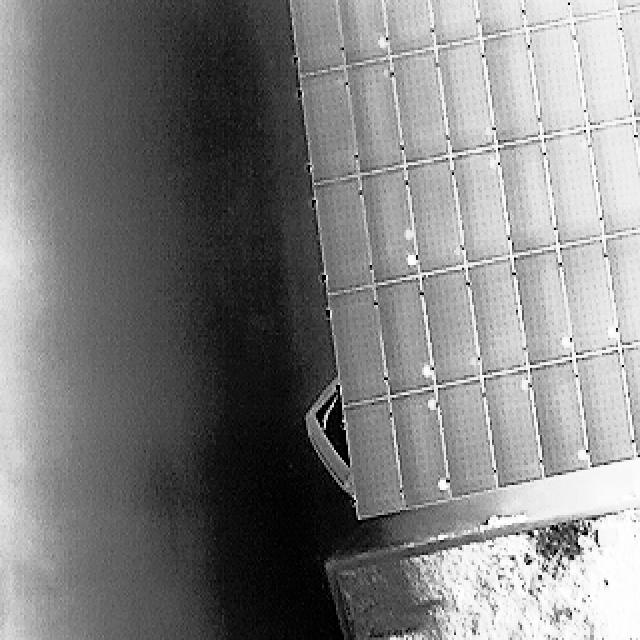Hotspots: (437, 476, 450, 494), (375, 35, 389, 50), (421, 364, 434, 380), (578, 136, 591, 152), (606, 325, 619, 340), (402, 225, 414, 241), (487, 156, 499, 172), (426, 400, 438, 414), (482, 124, 494, 137), (560, 335, 570, 350), (520, 378, 530, 392), (408, 253, 418, 266), (576, 448, 586, 460)
PV-modules: (574, 350, 640, 470), (480, 368, 544, 489), (467, 259, 530, 380), (437, 377, 501, 496), (423, 268, 486, 388), (452, 150, 516, 268), (526, 361, 590, 479), (498, 141, 562, 258), (512, 248, 575, 366), (326, 288, 388, 406), (438, 38, 500, 156), (375, 282, 437, 400), (542, 132, 605, 248), (555, 240, 616, 359), (388, 388, 449, 507), (341, 398, 402, 516), (480, 30, 542, 146), (406, 159, 468, 275), (527, 24, 590, 138), (313, 175, 374, 292), (389, 49, 452, 162), (574, 14, 636, 128), (357, 168, 416, 286), (343, 62, 404, 176), (301, 72, 360, 187), (586, 120, 640, 235), (602, 232, 640, 350), (286, 0, 348, 72), (331, 0, 387, 64), (382, 0, 437, 56), (614, 8, 640, 120), (616, 337, 640, 455), (428, 0, 485, 46), (472, 0, 527, 38), (522, 0, 574, 29), (565, 0, 620, 23), (634, 110, 640, 225)
